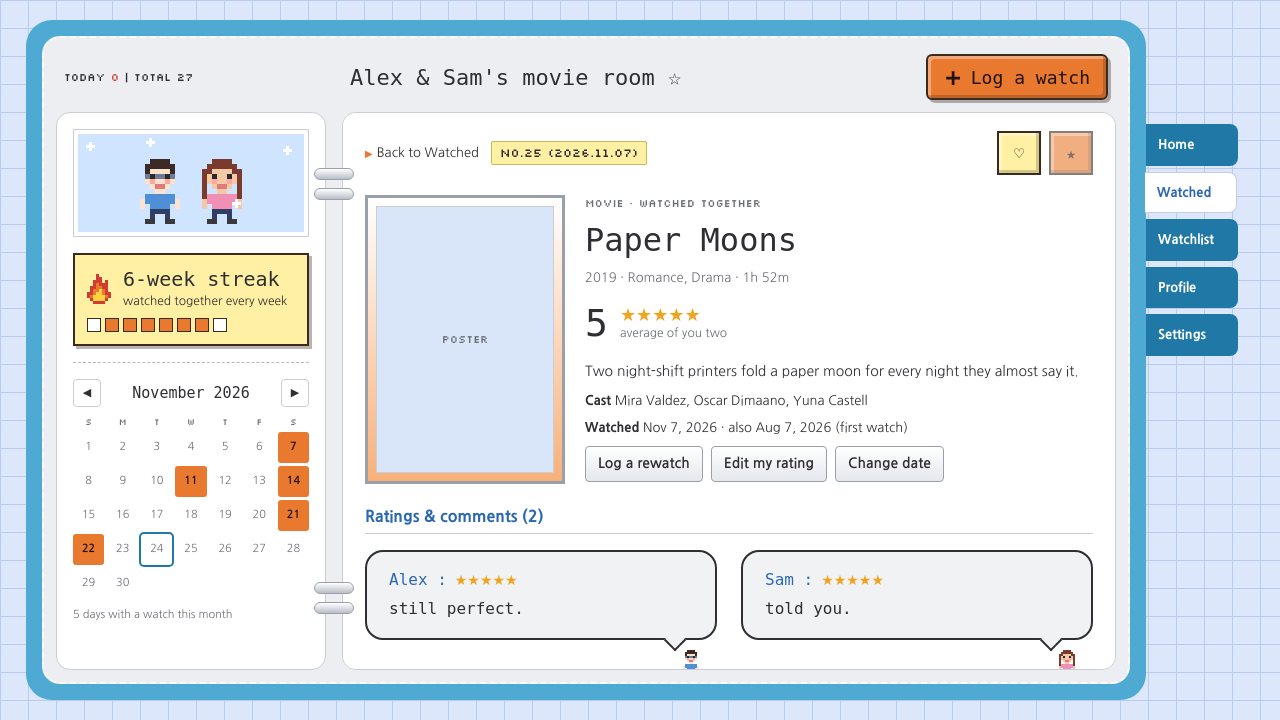
revisions › hearts a title on its page and saves the like
Click the button named "Like": x=1019, y=153 [997,131,1041,175]
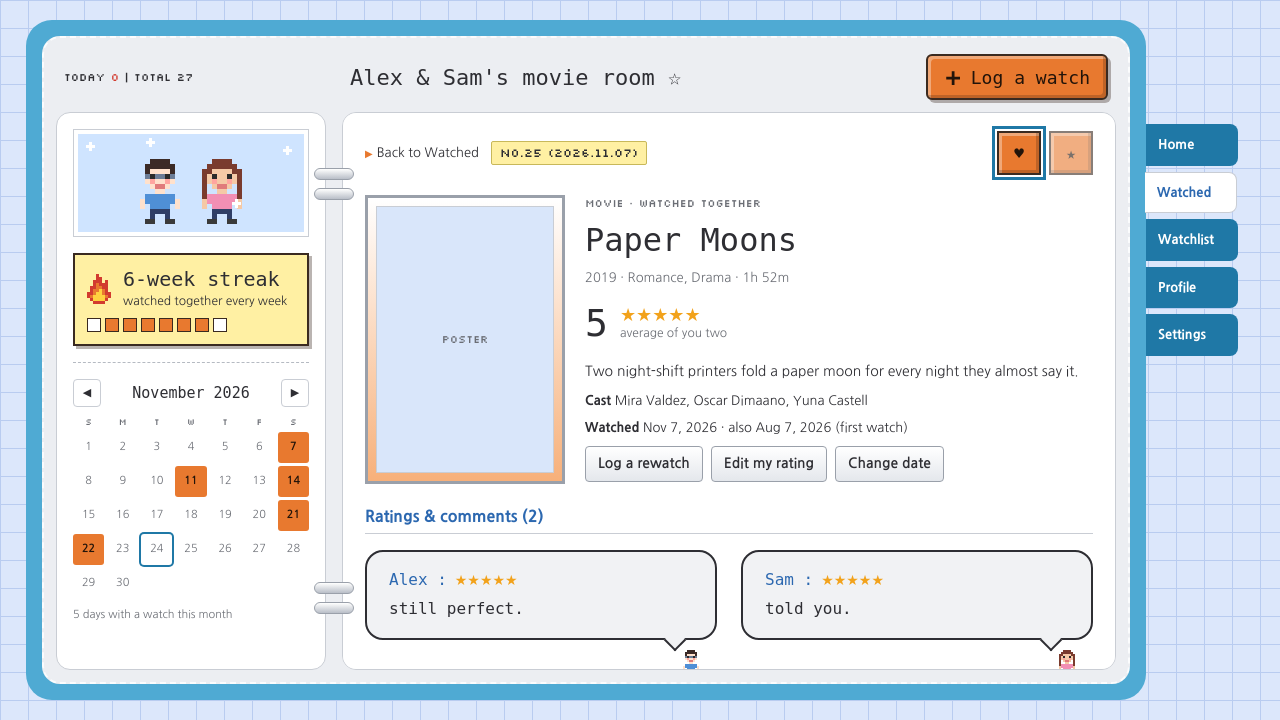
Now the button named "Unlike" is shown, box [997,131,1041,175]
